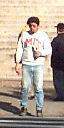person: (10, 14, 52, 117)
